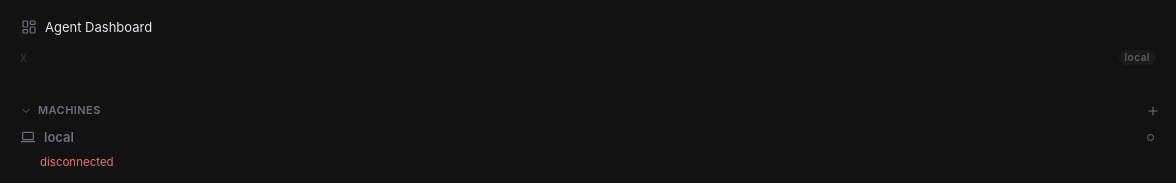
it: Sidebar machine actions › offers no New session in the Groups menu when no machine is connected
The width and height of the screenshot is (1176, 183).
Right-click the element named "Groups" at {"x": 588, "y": 57}, box [12,43,1164,71]
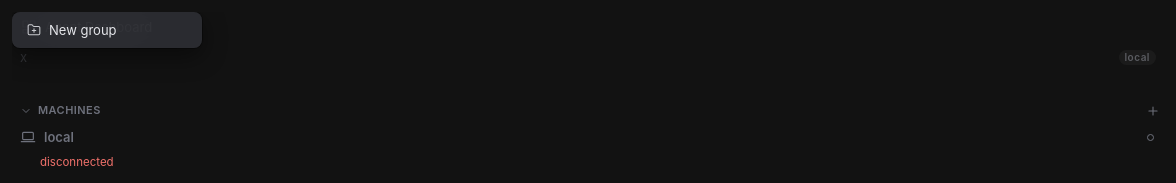
Result: the menu item "New group" is shown at [17,17,197,43]
